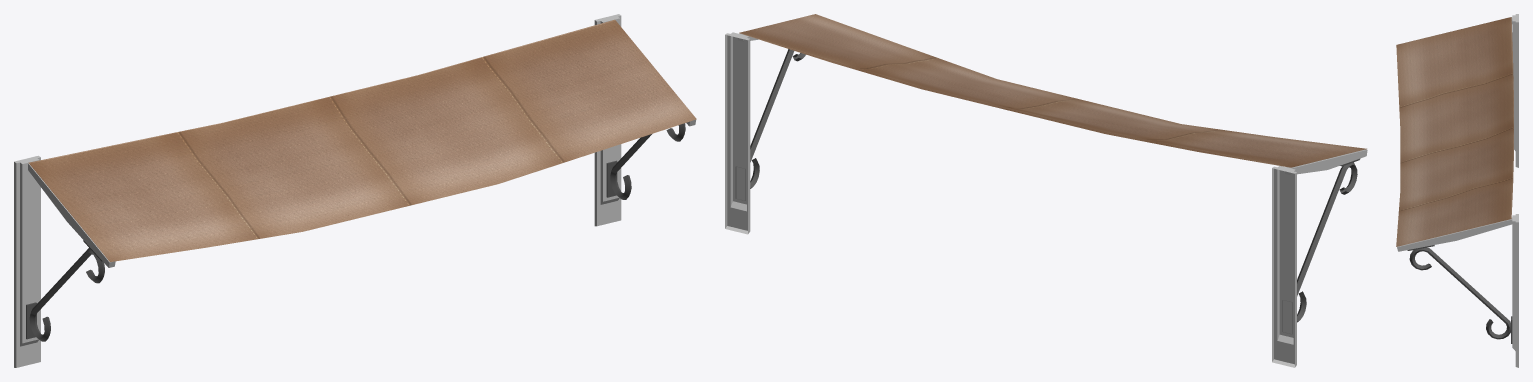
Rendered from AwningA01.fbx.
3 renders of one model, left to right at view 1: azimuth 30°, elevation 25°; view 2: azimuth 150°, elevation 25°; view 3: azimuth 270°, elevation 25°, orthographic. The views are drawn at different scales.
Visible parts, largest first — view 1: Awning01, AwningSupportA01, Brackets01; view 2: Awning01, AwningSupportA01, Brackets01; view 3: Awning01, AwningSupportA01, Brackets01.
Part boxes in pixels (<box>): Awning01: <box>28,19,696,261</box>; AwningSupportA01: <box>14,14,696,367</box>; Brackets01: <box>26,123,685,341</box>; Awning01: <box>739,14,1366,167</box>; AwningSupportA01: <box>725,32,1367,367</box>; Brackets01: <box>735,49,1360,334</box>; Awning01: <box>1396,17,1513,246</box>; AwningSupportA01: <box>1397,14,1518,367</box>; Brackets01: <box>1407,245,1512,343</box>.
Bounding box in the file's own units: 3.77 × 1.23 × 0.9385.
